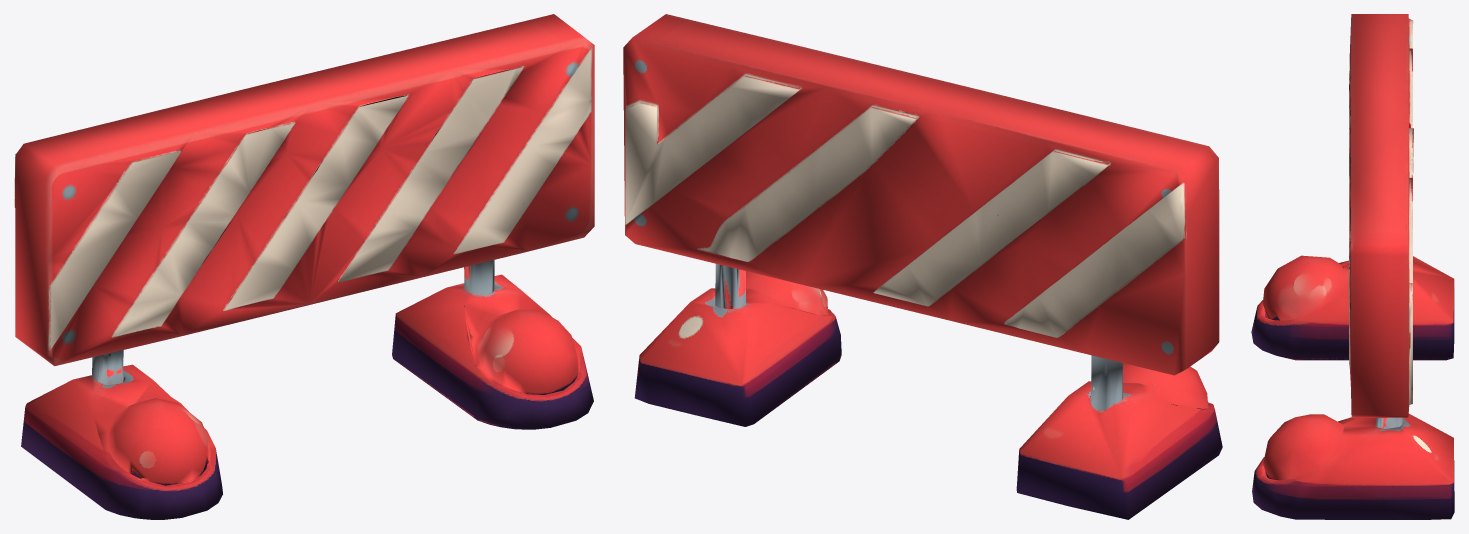
File: barrier.fbx
3 views of the same model, side by side, from view 1: azimuth 30°, elevation 25°; view 2: azimuth 150°, elevation 25°; view 3: azimuth 270°, elevation 25° (orthographic). The views are drawn at different scales.
Parts seen in each view (by area): view 1: Major_barrier; view 2: Major_barrier; view 3: Major_barrier.
Part boxes in pixels (bbox=[...]): Major_barrier: bbox=[14, 14, 594, 519]; Major_barrier: bbox=[623, 14, 1222, 519]; Major_barrier: bbox=[1251, 14, 1454, 519].
Bounding box in the file's own units: 1.69 × 0.9677 × 0.616.
1 material, 1 textured.
